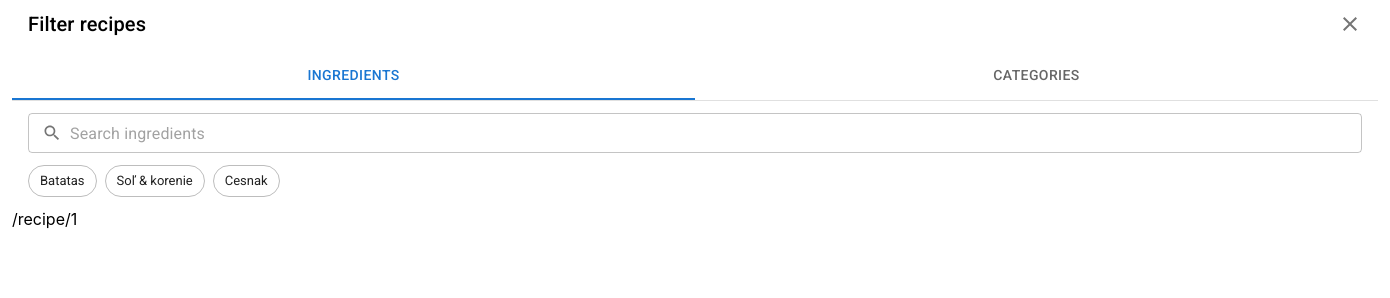
Scenario: RecipeMenu › filters by the category picked on its tab
Click the tab "Categories" at (1036, 76), box [695,52,1378,100]
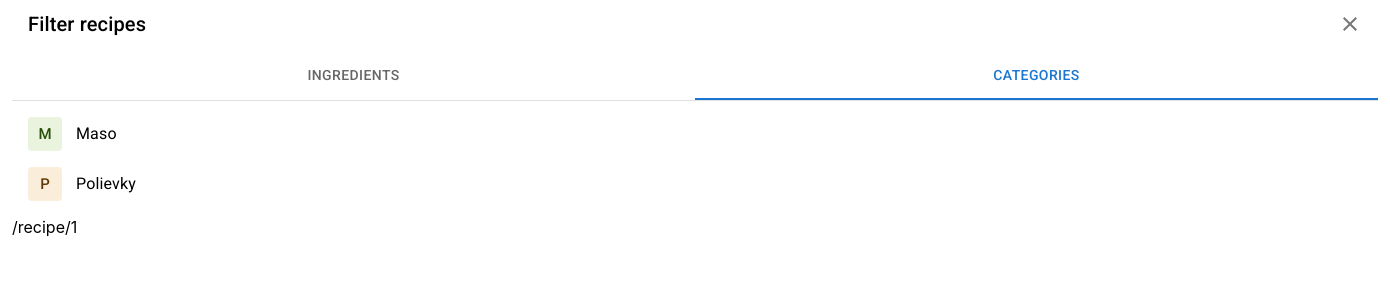
Click the button "P Polievky" at (82, 184), box [28,167,136,201]
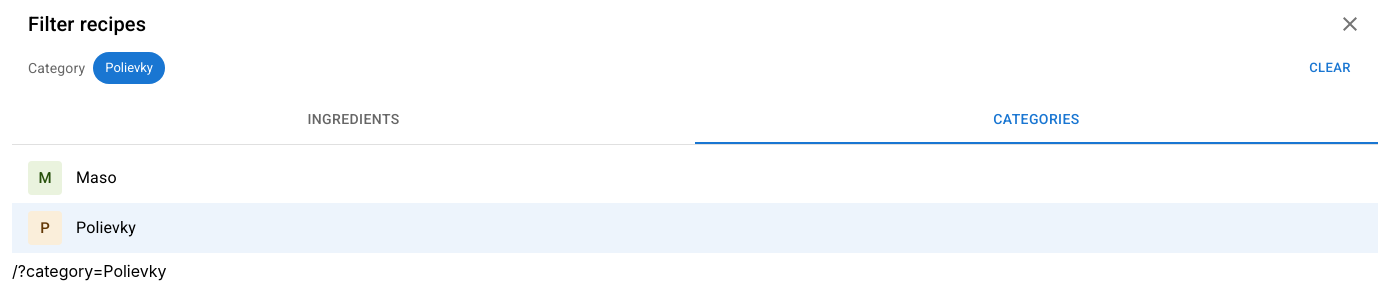
Expected: the text with test id "location" reads "/?category=Polievky", [12,261,167,281]
